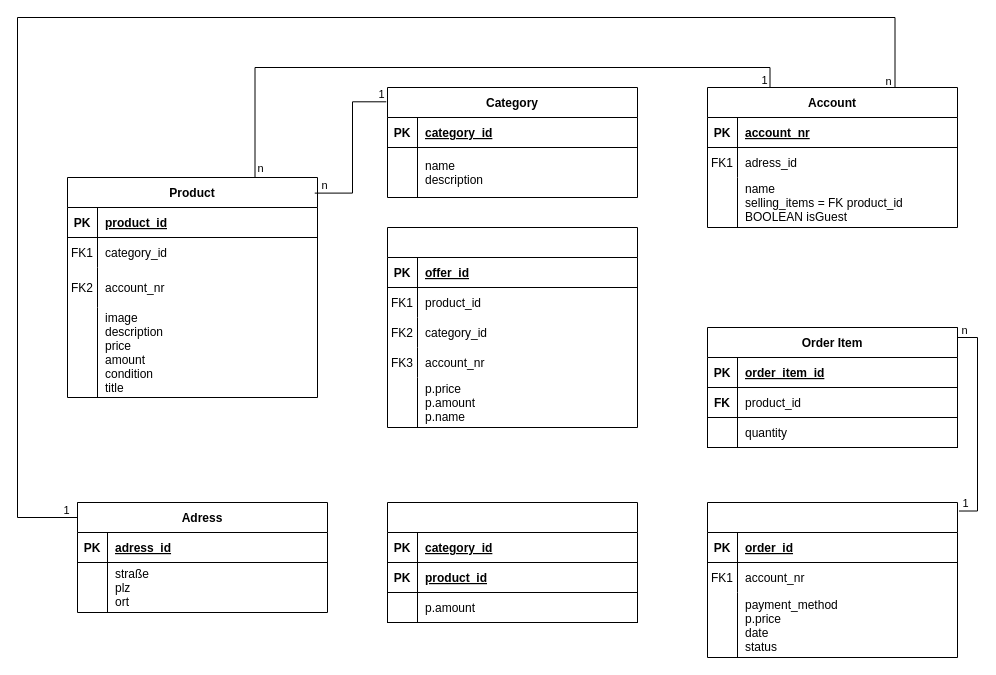
The diagram is 996 pixels wide and 675 high, and some of its shapes have lost their labels. The shapes that lost their labels are listed below. From the top down, each one's box as (x1, y1, x2, y2) in pixels, then its label:
(386, 226, 638, 428): Offers
(386, 502, 638, 622): Stock
(706, 502, 958, 658): Orders
